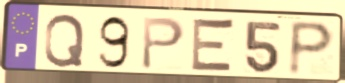5: (243, 19, 283, 76)
9: (96, 15, 132, 70)
E: (189, 15, 238, 76)
P: (286, 19, 337, 78), (139, 15, 187, 72)
Q: (43, 12, 87, 69)
